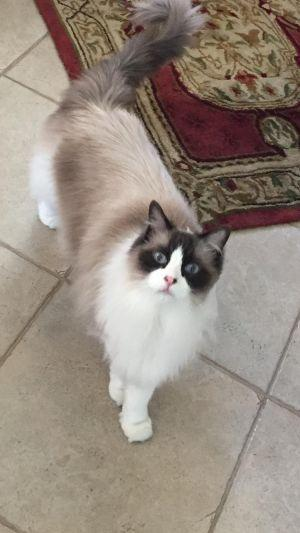ragdoll: (118, 193, 240, 320)
